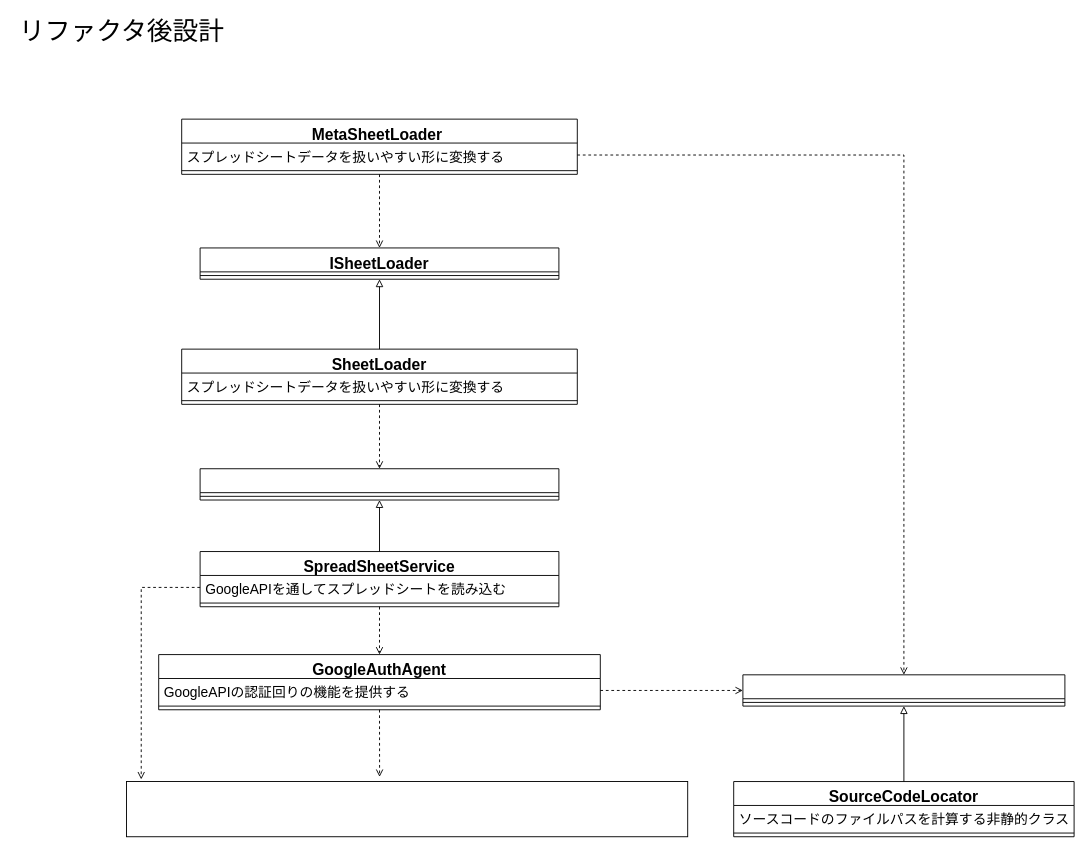
Image size: 1090x853. Some labels were removed from this diagram. The shapes that lost their labels are listed below. From the top down, each one's centre as x and y in pixels, then its label:
At (379,484): "ISpreadSheetService".
At (903,690): "ISourceCodeLocator".
At (407,809): "GoogleAPI".
